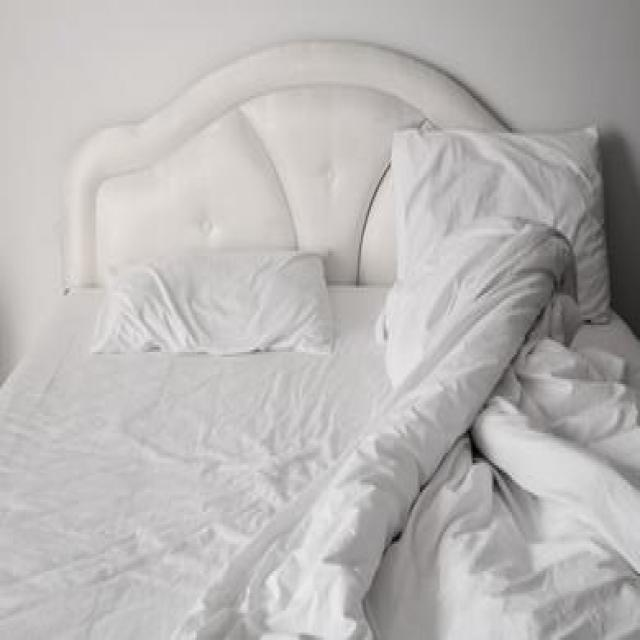bed: (23, 115, 640, 640)
